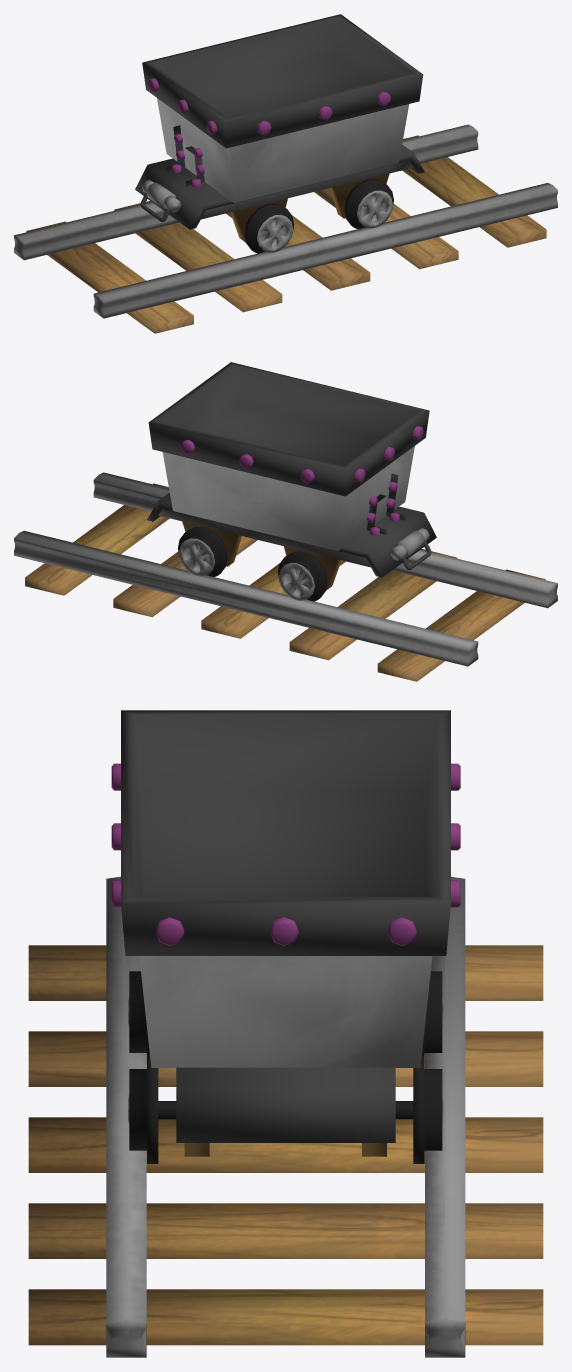
Rendered from Carrinho.fbx.
3 views of the same model, one above another, from view 1: azimuth 30°, elevation 25°; view 2: azimuth 150°, elevation 25°; view 3: azimuth 270°, elevation 25° (orthographic). The views are drawn at different scales.
Visible parts, largest first — view 1: Carrinho; view 2: Carrinho; view 3: Carrinho.
Boxes of the visible parts, box(x1,y1,x2,y2) form: Carrinho: box(14, 14, 557, 333); Carrinho: box(14, 362, 557, 681); Carrinho: box(28, 710, 543, 1357).
Bounding box in the file's own units: 293 × 106 × 144.
